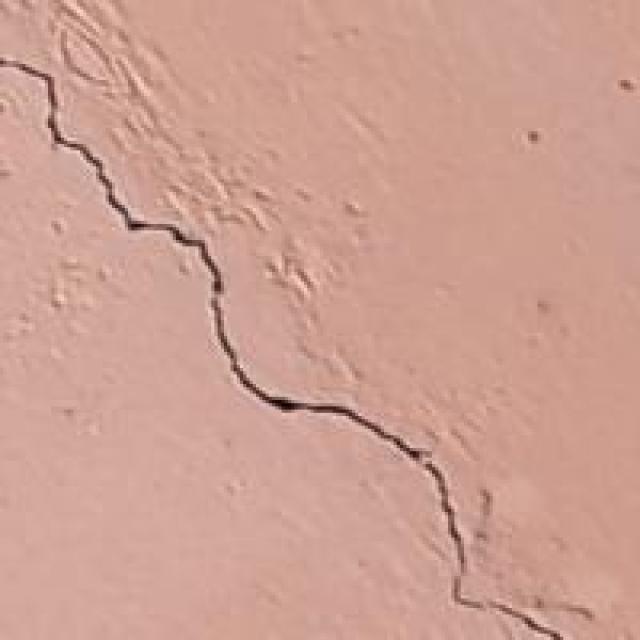crack: (3, 35, 550, 637)
